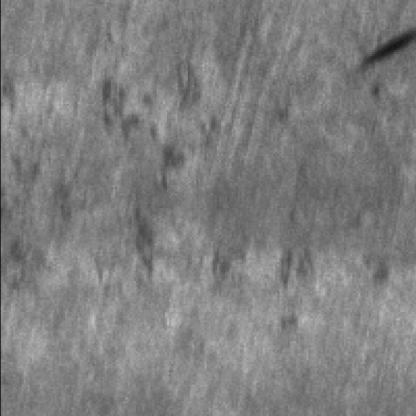rolled-in_scale: (87, 60, 239, 327), (216, 216, 396, 341)
